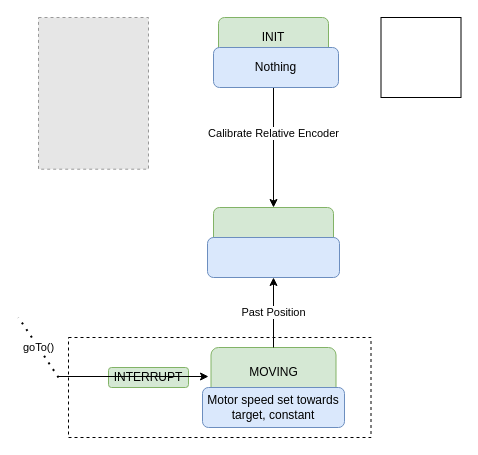
Image size: 478x455. Some labels were removed from this diagram. Grey dashed boxes stand in for pictures. The shapes that lost their labels are listed below. From the top down, each one's centre as x and y in pixels, then its label:
At (420,57): "Deep Climb Motor: Kraken x60".
At (273,227): "IDLE".
At (273,257): "Set motor to 0".
